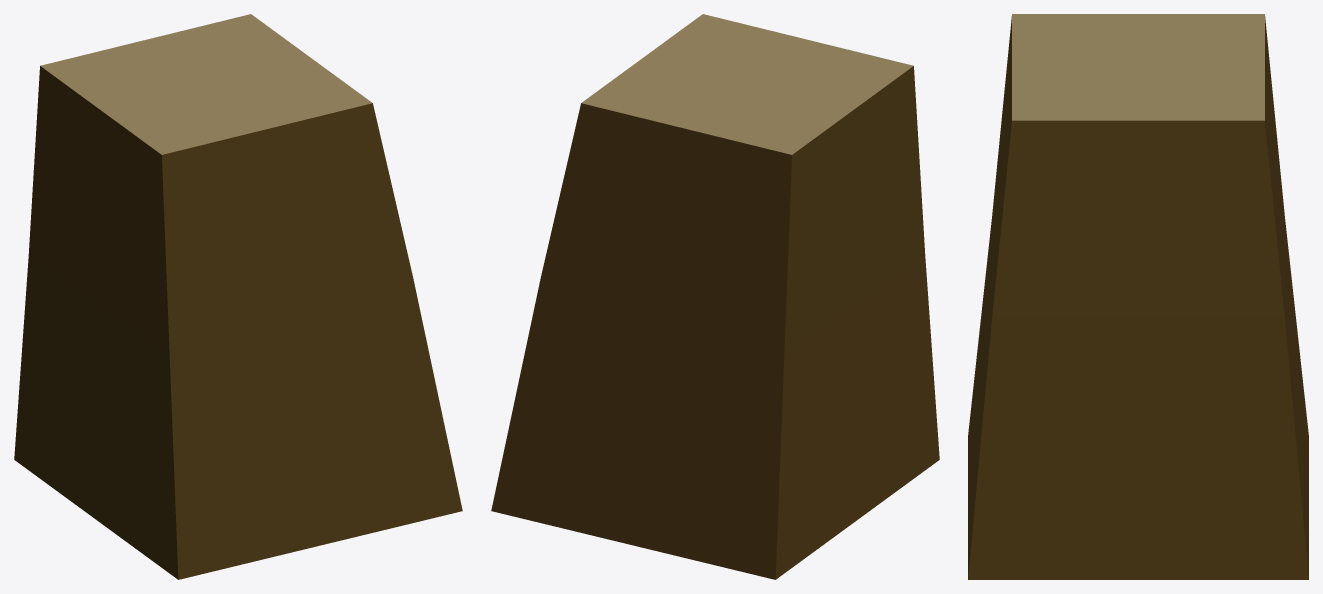
The model's file is Tree_Apple_Stump.fbx.
The picture shows the model from 3 angles, left to right: view 1: azimuth 30°, elevation 25°; view 2: azimuth 150°, elevation 25°; view 3: azimuth 270°, elevation 25°; orthographic projection. The views are drawn at different scales.
Parts seen in each view (by area): view 1: Tree_Apple_Stump; view 2: Tree_Apple_Stump; view 3: Tree_Apple_Stump.
Boxes of the visible parts, box(x1,y1,x2,y2) form: Tree_Apple_Stump: box(14, 14, 462, 579); Tree_Apple_Stump: box(491, 14, 939, 579); Tree_Apple_Stump: box(968, 14, 1308, 579).
Bounding box in the file's own units: 50 × 68.75 × 50.
